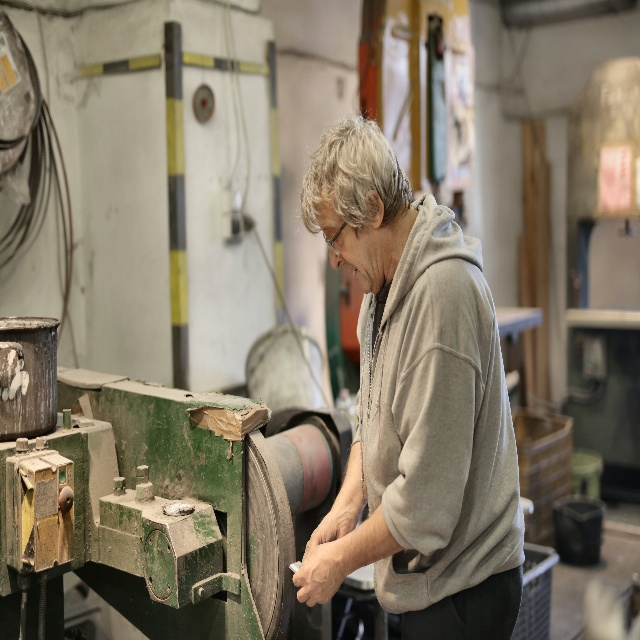Gafas: (322, 215, 347, 255)
Sin_guantes: (292, 537, 347, 608), (302, 511, 348, 564)
